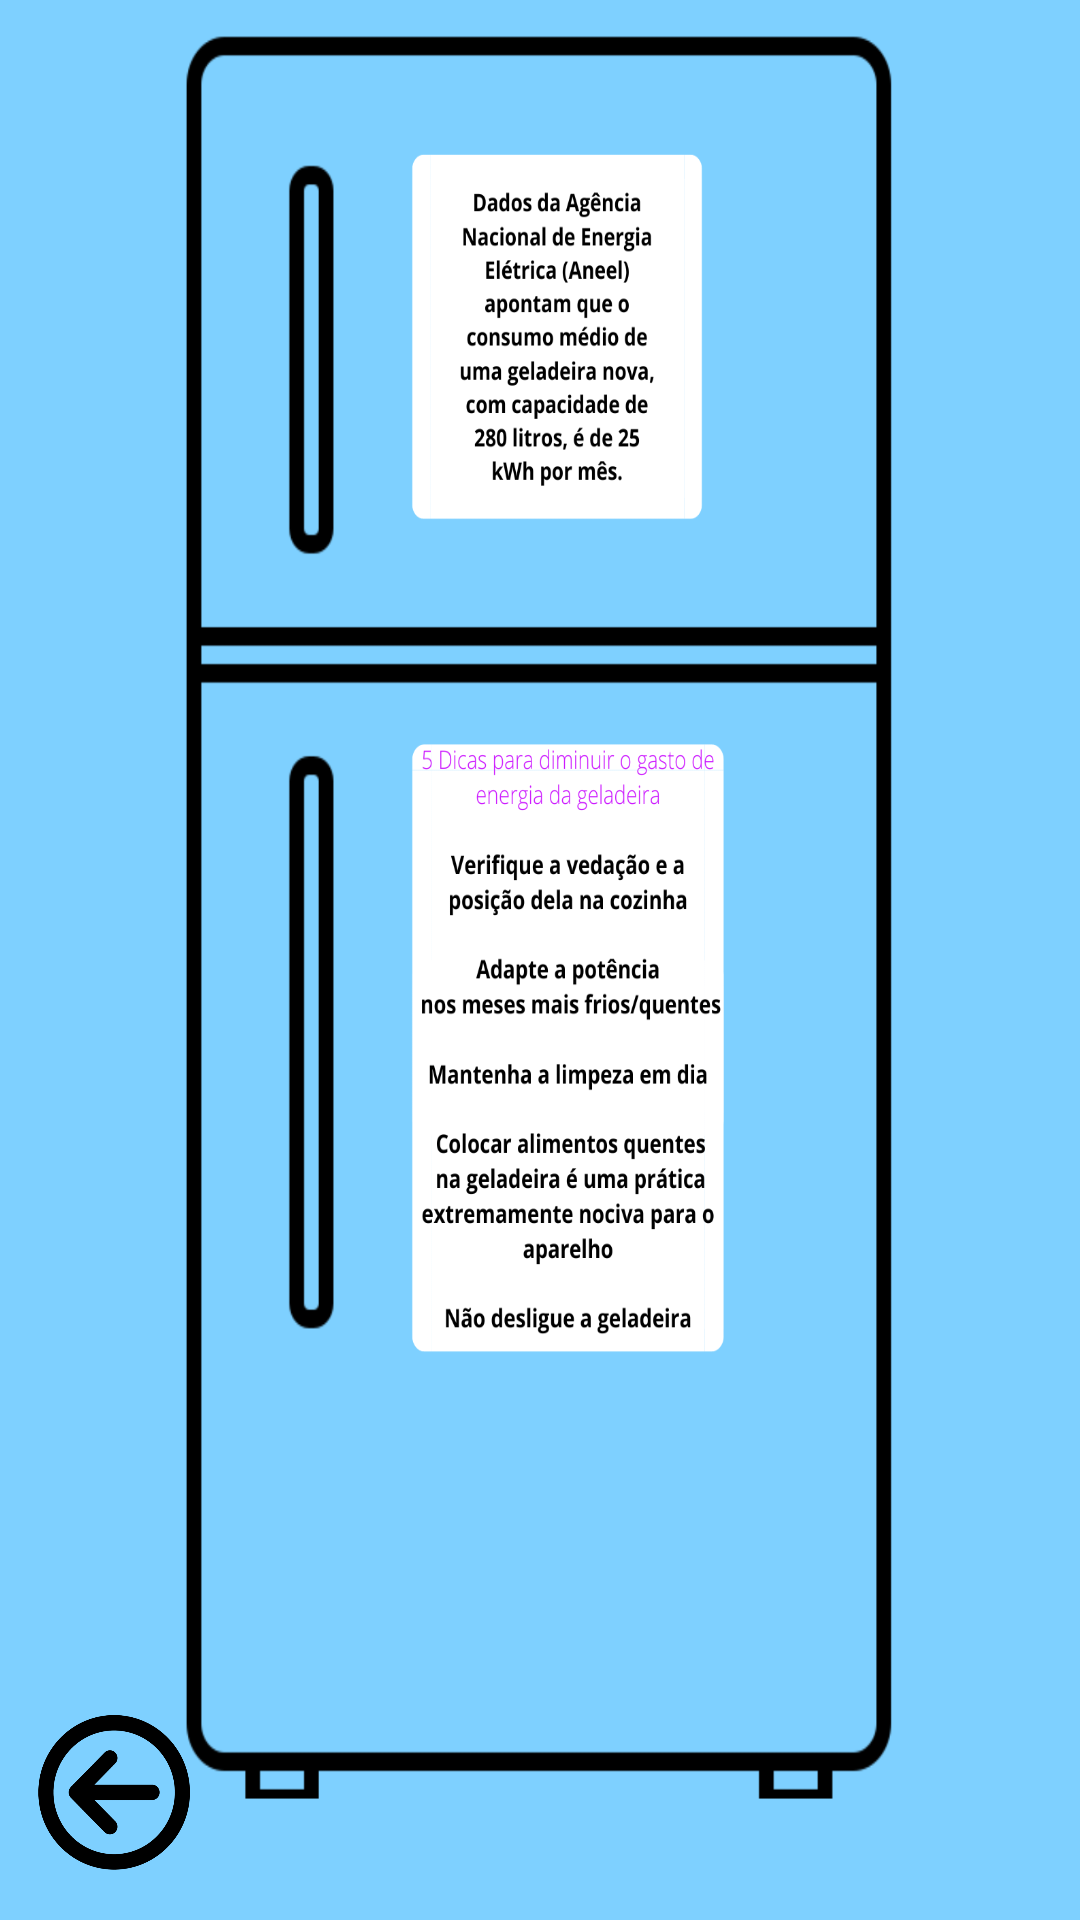

Screen size 1080*1920. Icon name, then its box in pixels as (x1, y1, x2, y2):
back: (38, 1715, 190, 1870)
